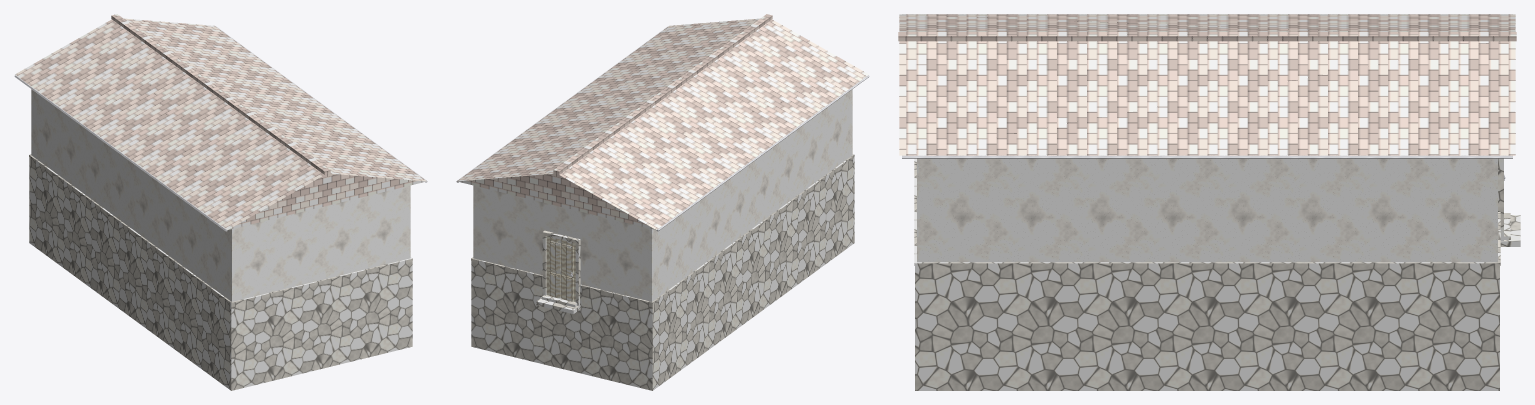
3 views of the same model, side by side, from view 1: azimuth 30°, elevation 25°; view 2: azimuth 150°, elevation 25°; view 3: azimuth 270°, elevation 25° (orthographic). The views are drawn at different scales.
Visible parts, largest first — view 1: b1096729692; view 2: b1096729692; view 3: b1096729692.
Boxes of the visible parts, left/top/right/bottom form: b1096729692: left=14, top=14, right=427, bottom=390; b1096729692: left=456, top=14, right=869, bottom=390; b1096729692: left=898, top=14, right=1520, bottom=390.
Size of the model in its own units: 6.74 by 6.44 by 12.4.
11 materials, 11 textured.
